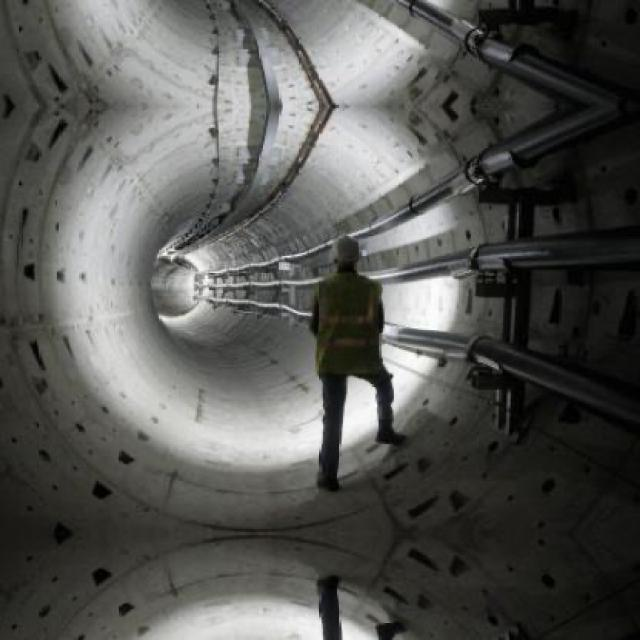con casco: (326, 234, 372, 271)
